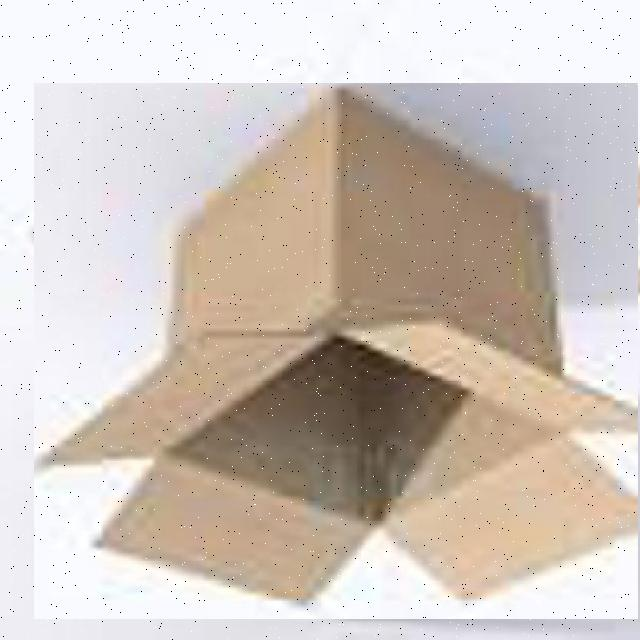defect: (34, 83, 638, 619)
